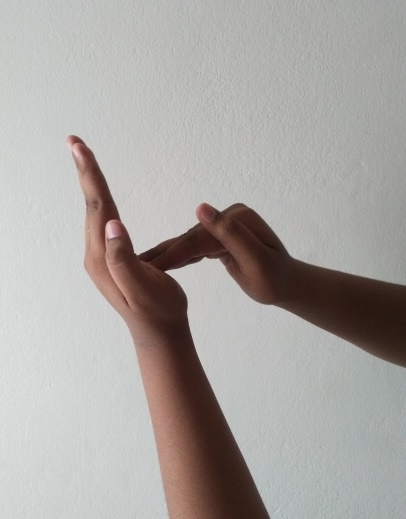ga: (61, 129, 293, 323)
